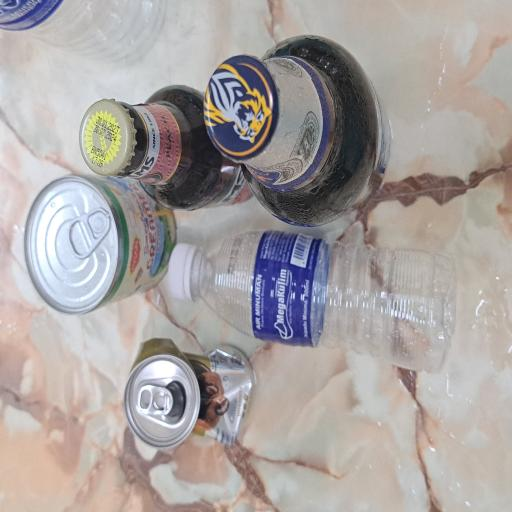can: (149, 33, 252, 236), (47, 166, 132, 335)
glass bottle: (213, 270, 356, 512), (227, 102, 321, 340)
plastic bottle: (106, 223, 211, 512)
plastic bottle cap: (160, 224, 201, 274)
pop tab: (190, 88, 228, 150), (70, 184, 98, 234)
